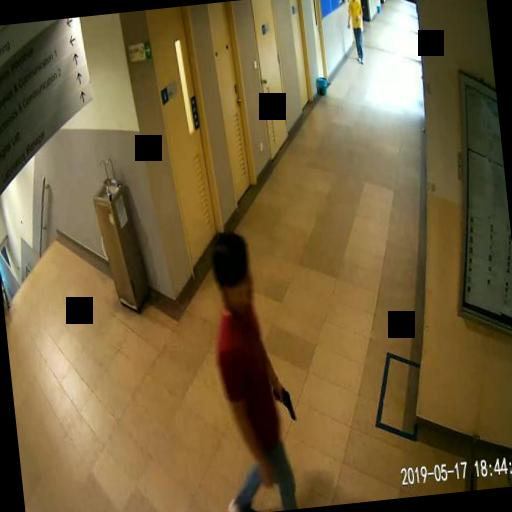Handgun: (271, 384, 293, 420)
